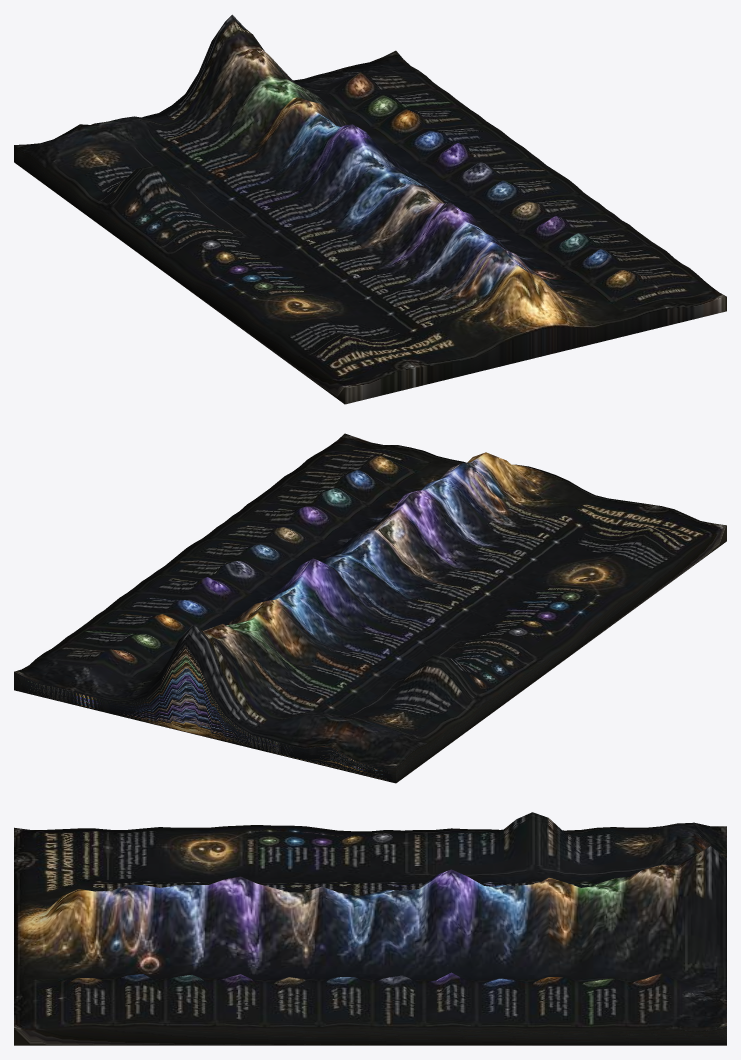
File: Cultivation_Ladder_12_Realms.glb
3 renders of one model, top to bottom at view 1: azimuth 30°, elevation 25°; view 2: azimuth 150°, elevation 25°; view 3: azimuth 270°, elevation 25°, orthographic. The views are drawn at different scales.
Visible parts, largest first — view 1: Cultivation_Ladder_12_Realms; view 2: Cultivation_Ladder_12_Realms; view 3: Cultivation_Ladder_12_Realms.
Boxes of the visible parts, x1,y1,x2,y2 form: Cultivation_Ladder_12_Realms: (14, 14, 726, 404); Cultivation_Ladder_12_Realms: (14, 433, 726, 783); Cultivation_Ladder_12_Realms: (14, 812, 726, 1045).
Size of the model in its own units: 2 by 0.51 by 3.
1 material, 1 textured.
